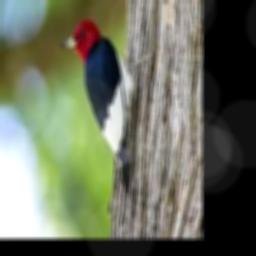Woodpecker: (59, 19, 144, 194)
